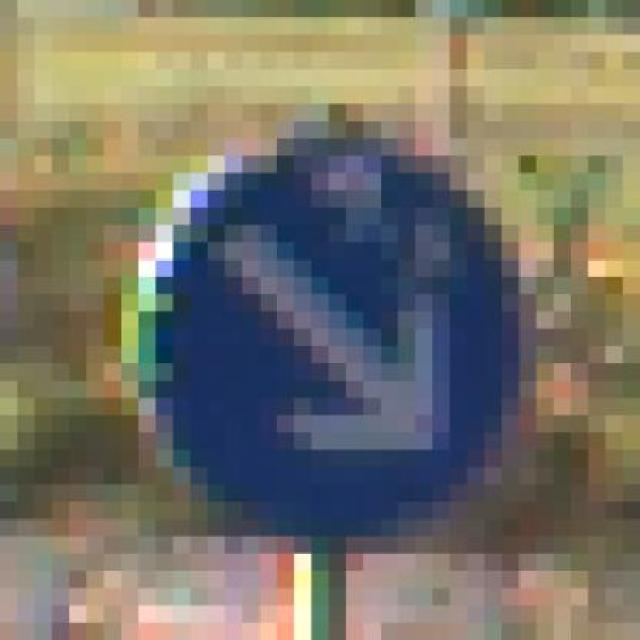Keep-Right: (51, 86, 572, 571)
